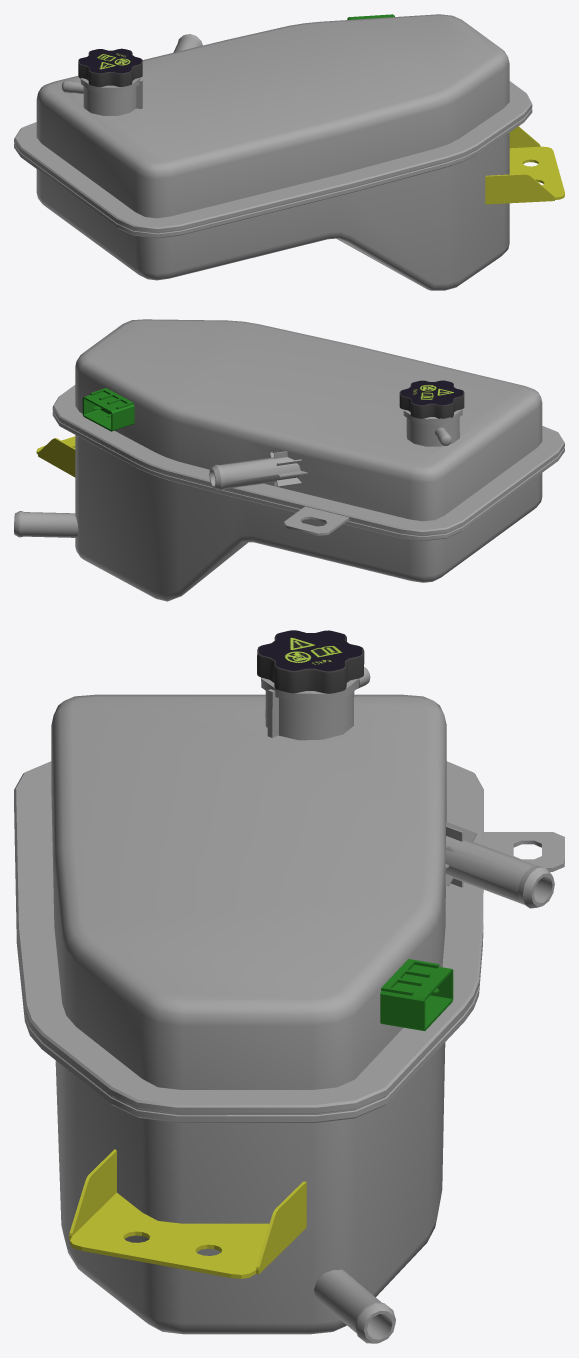
Rendered from E5_电机冷却液储液罐.FBX.
3 views of the same model, one above another, from view 1: azimuth 30°, elevation 25°; view 2: azimuth 150°, elevation 25°; view 3: azimuth 270°, elevation 25° (orthographic). The views are drawn at different scales.
Visible parts, largest first — view 1: CSLQYG1_PS, CSLQYG1_PS12, LQYCYG1_TT, LQYCYG1_PG; view 2: CSLQYG1_PS, CSLQYG1_PS12, LQYCYG1_TT, LQYCYG1_PG; view 3: CSLQYG1_PS, CSLQYG1_PS12, LQYCYG1_TT, LQYCYG1_PG.
Boxes of the visible parts, x1,y1,x2,y2 form: CSLQYG1_PS: [14, 14, 532, 290]; CSLQYG1_PS12: [347, 14, 564, 204]; LQYCYG1_TT: [79, 48, 141, 73]; LQYCYG1_PG: [78, 48, 142, 86]; CSLQYG1_PS: [14, 319, 564, 601]; CSLQYG1_PS12: [36, 388, 134, 477]; LQYCYG1_TT: [400, 380, 463, 405]; LQYCYG1_PG: [399, 380, 464, 418]; CSLQYG1_PS: [14, 667, 564, 1343]; CSLQYG1_PS12: [69, 959, 453, 1278]; LQYCYG1_TT: [259, 630, 362, 671]; LQYCYG1_PG: [257, 630, 364, 693].
Size of the model in its own units: 18.94 by 9.22 by 11.43.
